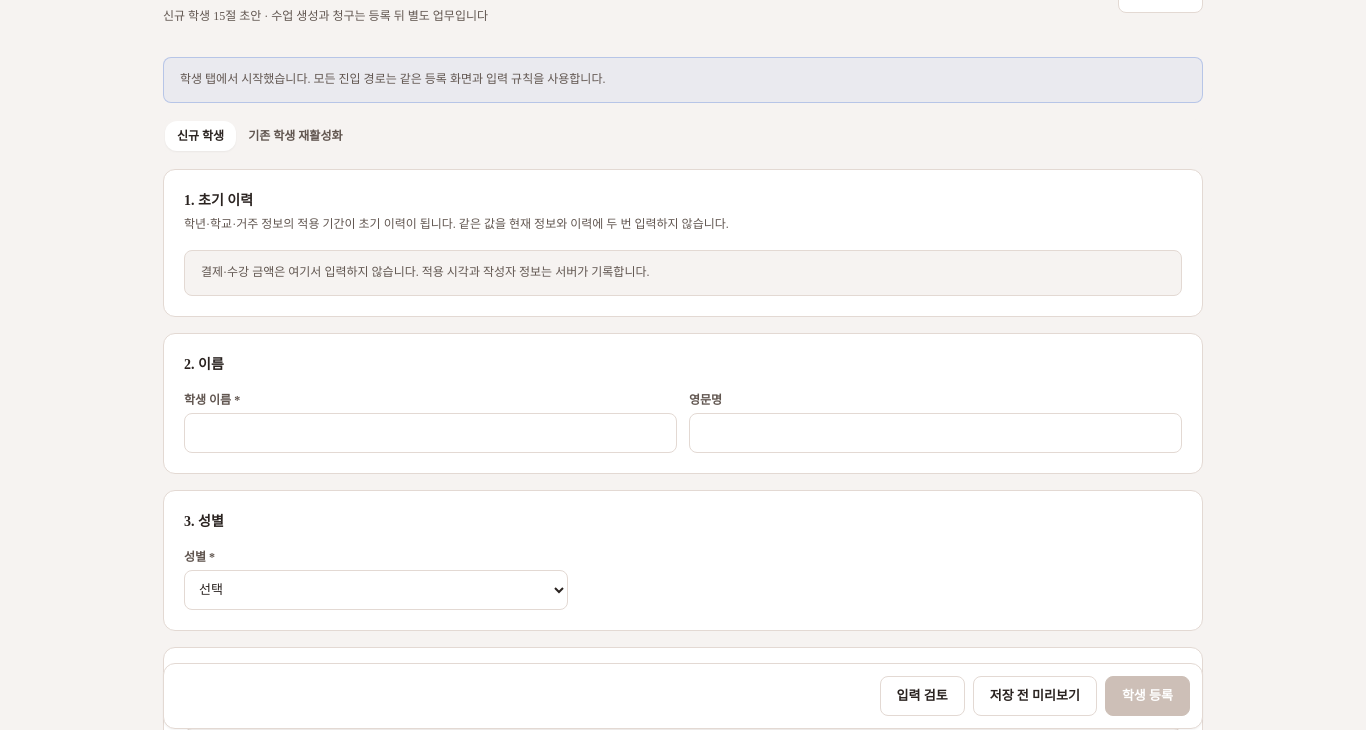
BOC-03a 학생 신규 등록 초안 › 빈 초안을 검토하면 필수 오류를 절별로 보여 주고 쓰기 요청은 만들지 않는다
Click the button "입력 검토" at (922, 696), box x1=880 y1=676 x2=965 y2=716
(page scrolled)
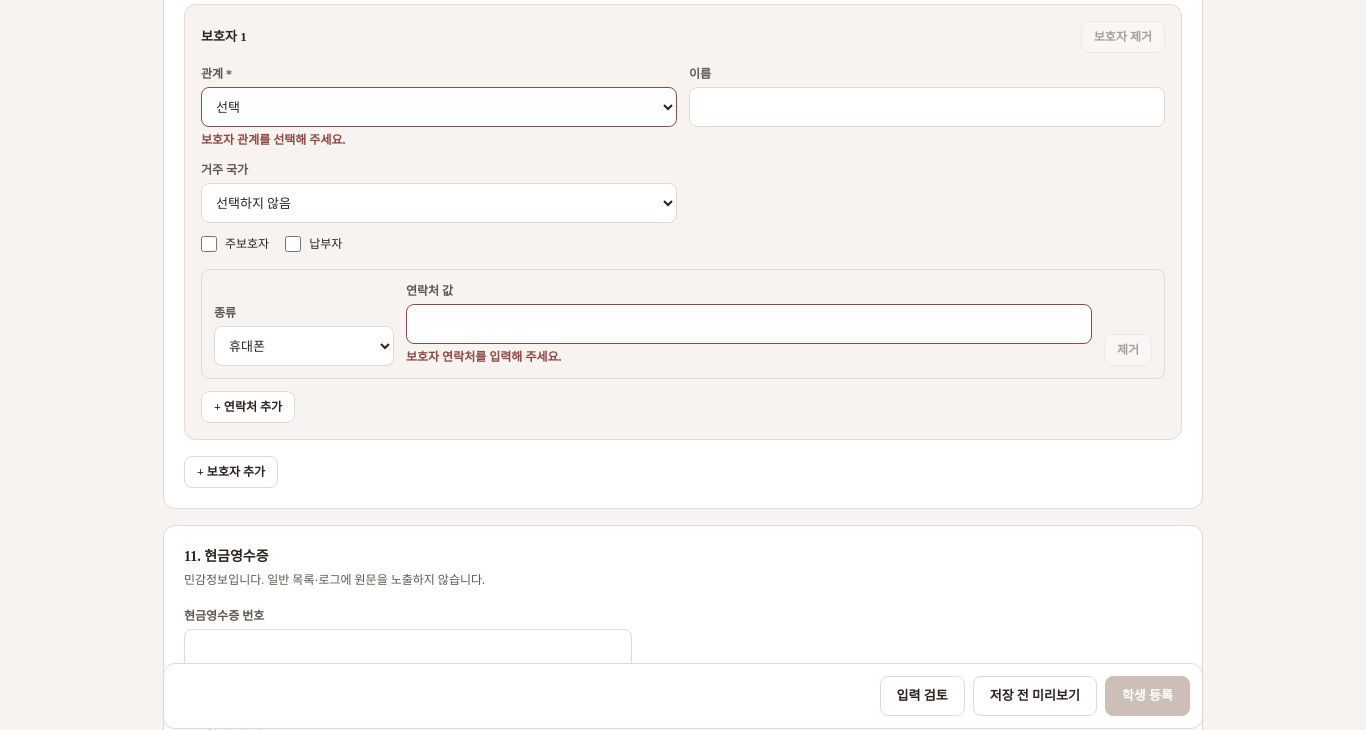
Expected: the text "보호자 관계를 선택해 주세요." is shown, x1=201 y1=133 x2=346 y2=147
Expected: the text "보호자 연락처를 입력해 주세요." is shown, x1=406 y1=350 x2=562 y2=364
